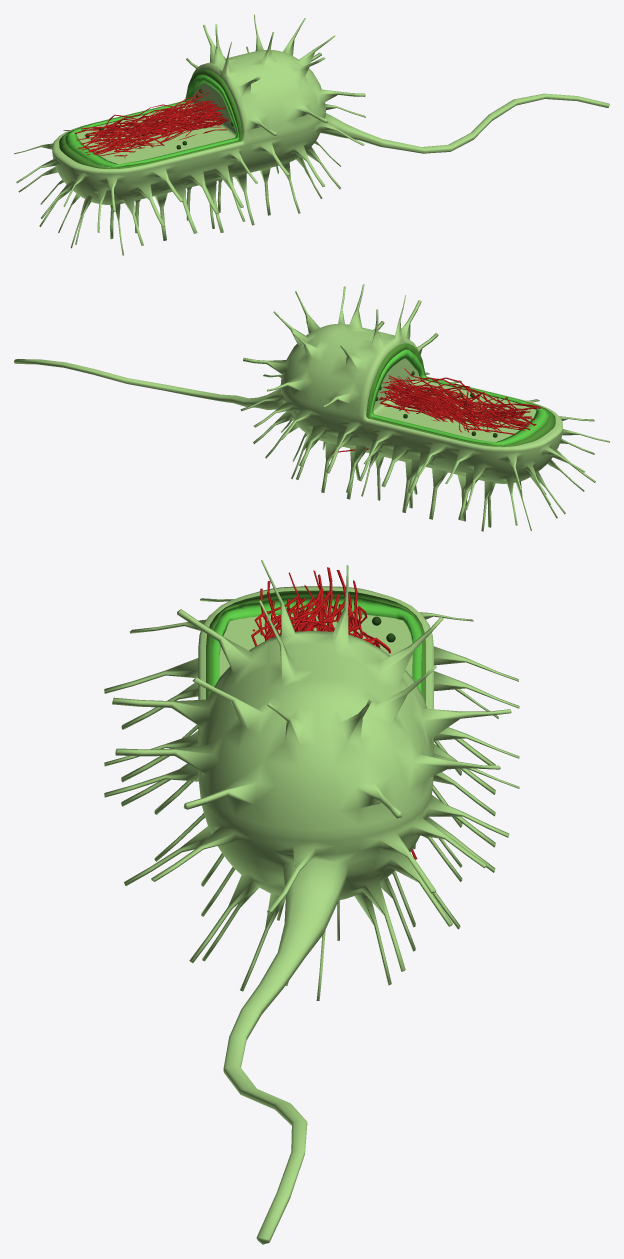
Rendered from procariote_cell.glb.
3 views of the same model, one above another, from view 1: azimuth 30°, elevation 25°; view 2: azimuth 150°, elevation 25°; view 3: azimuth 270°, elevation 25° (orthographic). The views are drawn at different scales.
Parts seen in each view (by area): view 1: main, Center, Inner_Inner_Layer, Outter_Inner_Layer; view 2: main, Center, Inner_Inner_Layer, Outter_Inner_Layer; view 3: main, Center, Inner_Inner_Layer, Outter_Inner_Layer.
Boxes of the visible parts, x1=… form: main: x1=14, y1=14, x2=609, y2=255; Center: x1=74, y1=90, x2=228, y2=158; Inner_Inner_Layer: x1=65, y1=75, x2=239, y2=167; Outter_Inner_Layer: x1=59, y1=69, x2=242, y2=169; main: x1=14, y1=284, x2=609, y2=531; Center: x1=331, y1=368, x2=540, y2=453; Inner_Inner_Layer: x1=370, y1=349, x2=549, y2=445; Outter_Inner_Layer: x1=366, y1=343, x2=555, y2=446; main: x1=104, y1=560, x2=519, y2=1244; Center: x1=251, y1=567, x2=417, y2=859; Inner_Inner_Layer: x1=210, y1=595, x2=421, y2=692; Outter_Inner_Layer: x1=206, y1=590, x2=425, y2=703.
Bounding box in the file's own units: 11.21 × 3.49 × 3.52.
